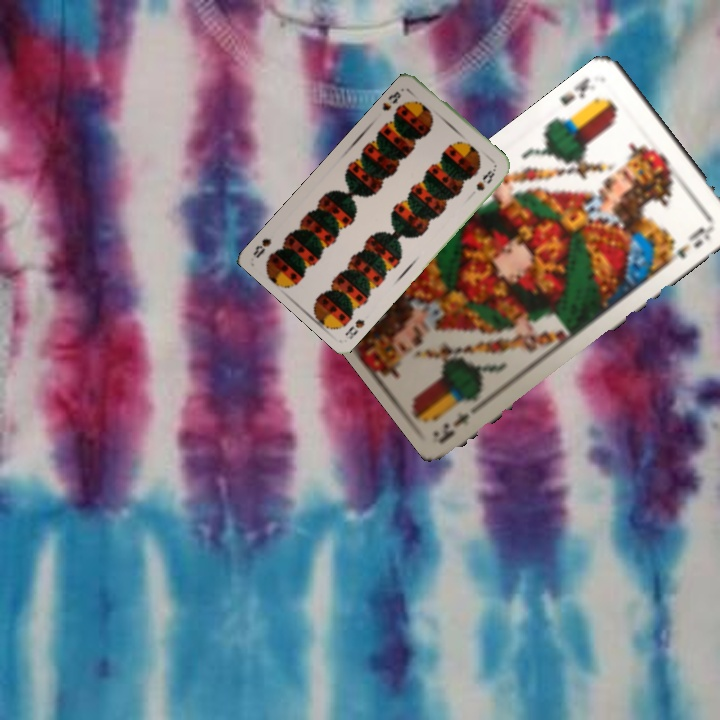EK: (437, 396, 488, 443), (556, 73, 593, 108)
S8: (341, 315, 367, 342), (378, 87, 404, 113)
